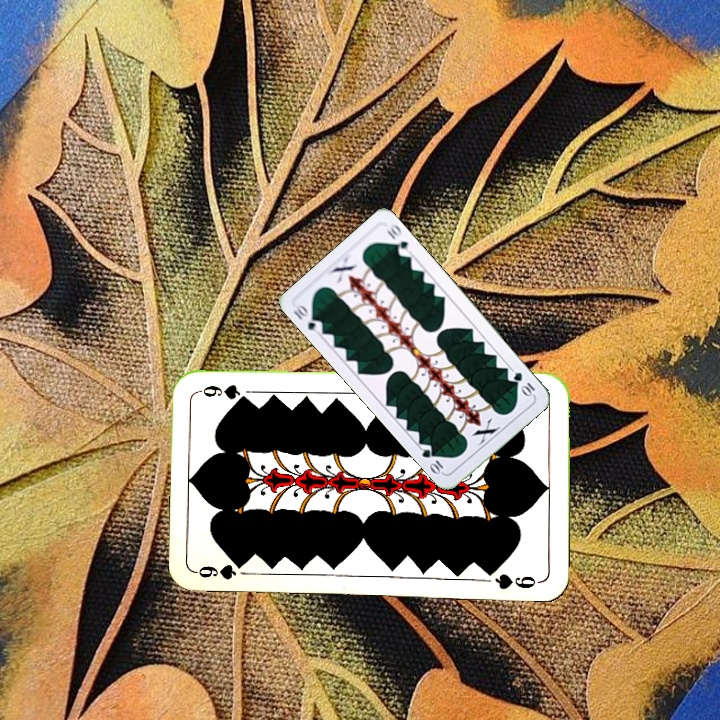G10: (289, 301, 326, 333), (509, 368, 538, 399)
G9: (193, 561, 239, 582)
